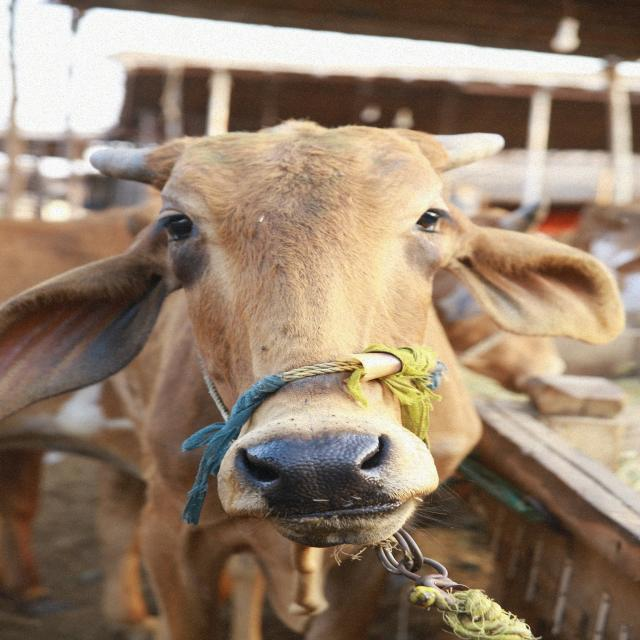muzzles: (230, 427, 417, 515)
